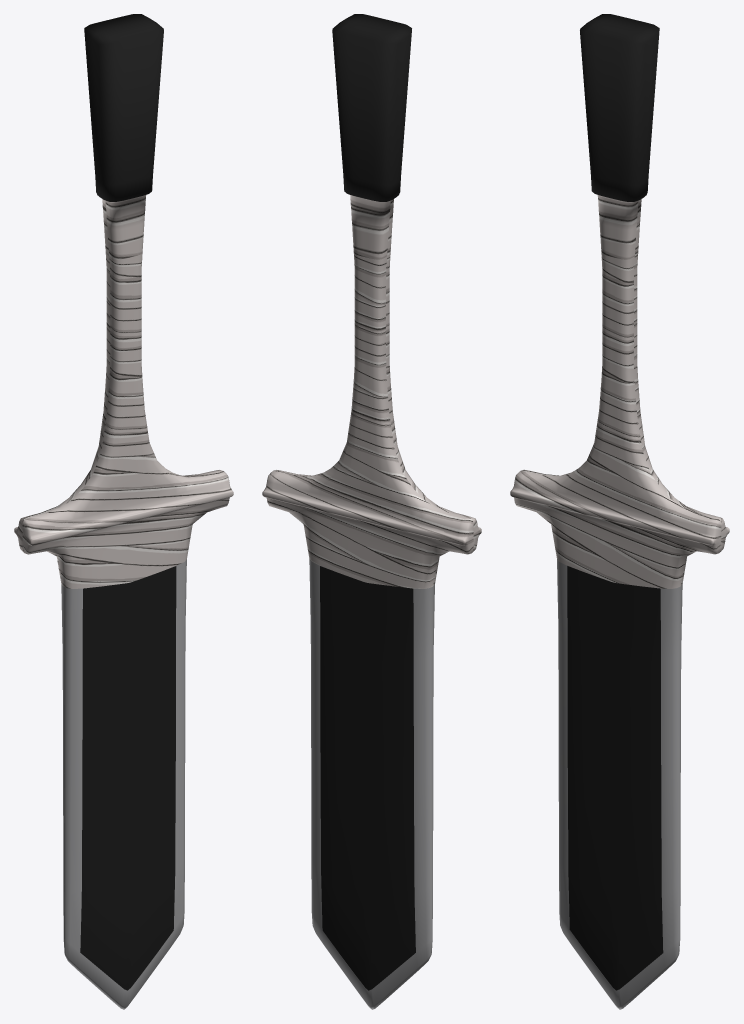
Rendered from northshoreweapon.fbx.
3 views of the same model, side by side, from view 1: azimuth 30°, elevation 25°; view 2: azimuth 150°, elevation 25°; view 3: azimuth 330°, elevation 25° (orthographic).
Visible parts, largest first — view 1: Plane; view 2: Plane; view 3: Plane.
Boxes of the visible parts, bbox=[...] form: Plane: bbox=[14, 14, 233, 1009]; Plane: bbox=[262, 14, 481, 1009]; Plane: bbox=[510, 14, 729, 1009].
Bounding box in the file's own units: 103 × 476 × 21.86.
